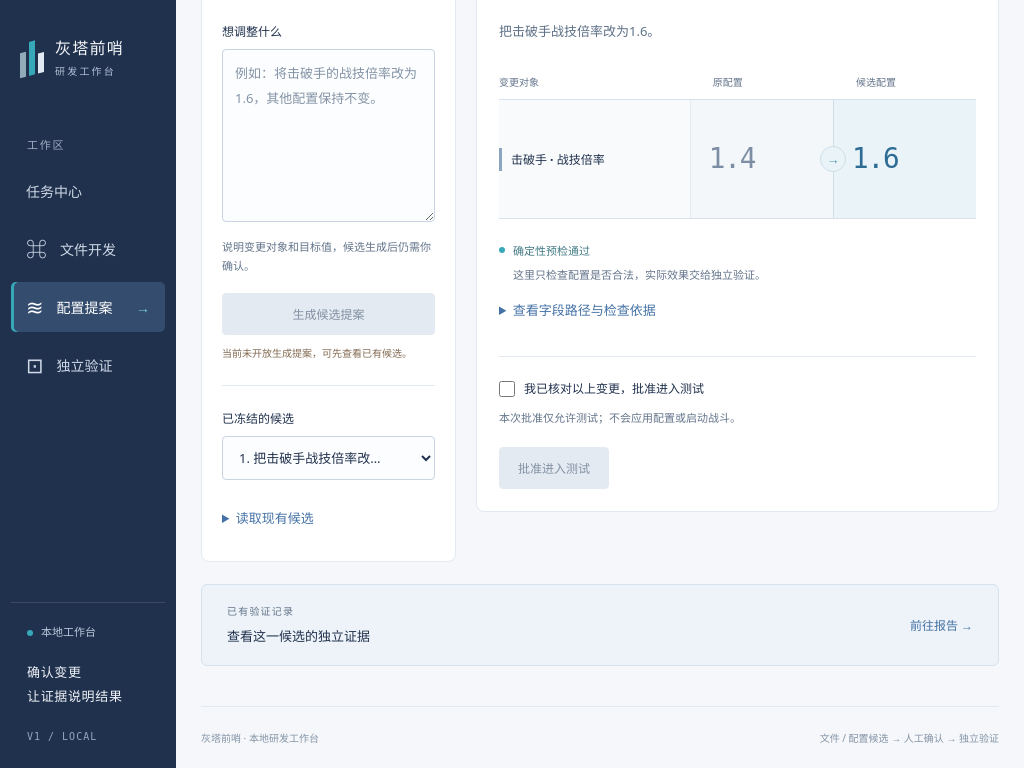
Test: workbench public workflow › requires a separate explicit confirmation for the selected frozen candidate
The image size is (1024, 768).
(page scrolled)
expect the text "把击破手战技倍率改为1.6。" is shown: met, box [499,22,660,40]
Click the checkbox labelled "我已核对以上变更，批准进入测试" at (507, 389), box [499,381,515,397]
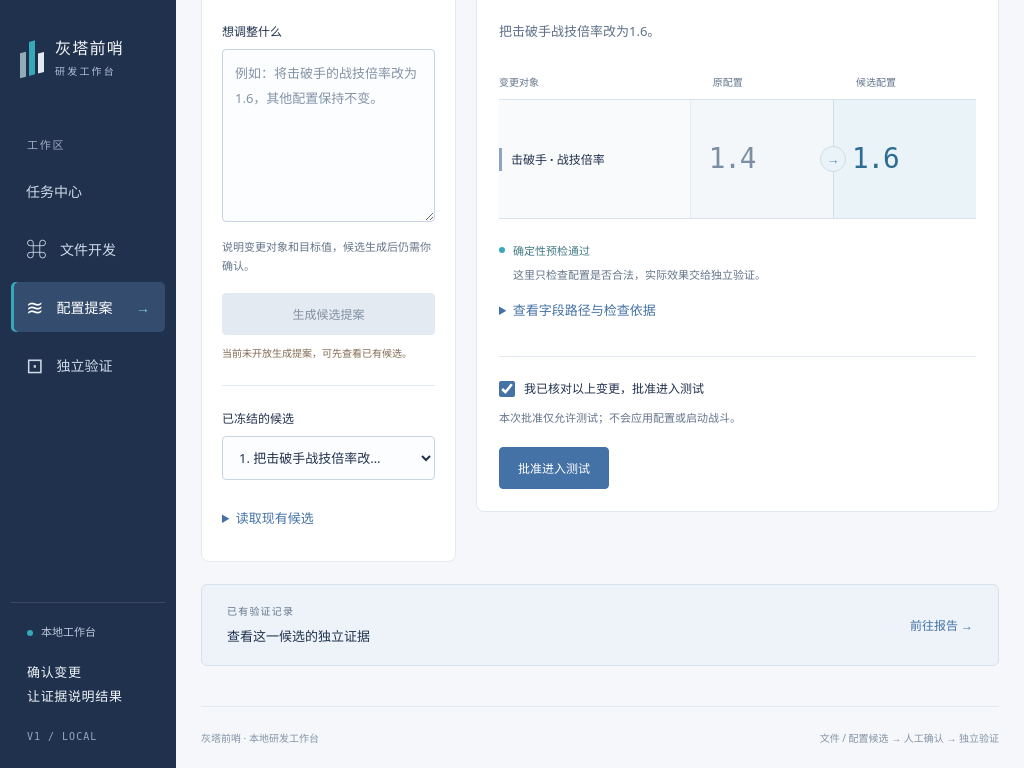
Click the button "批准进入测试" at (554, 468), box [499,447,609,489]
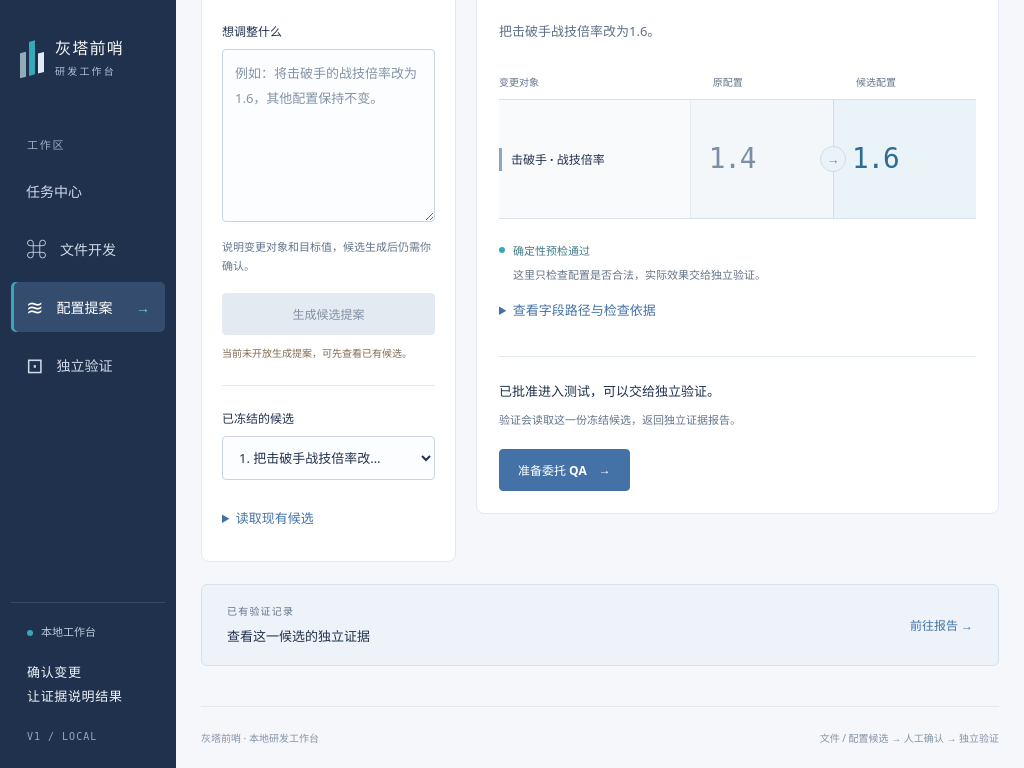
expect the text "已批准进入测试，可以交给独立验证。" is shown: met, box [499,382,720,400]
